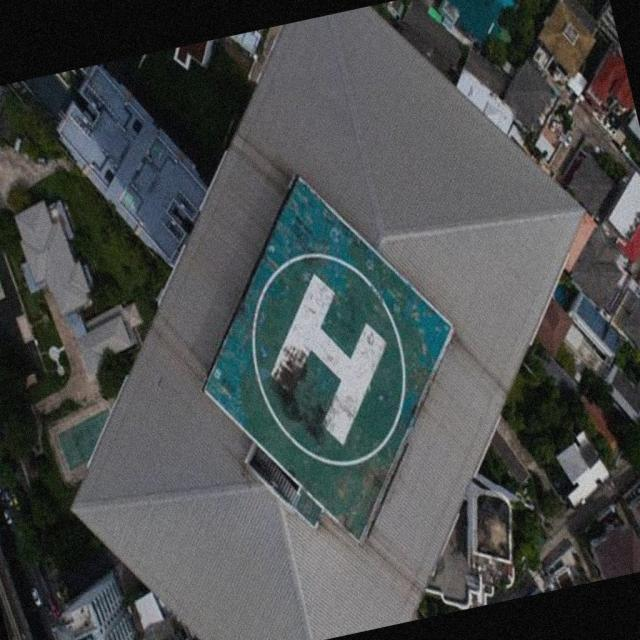helipad: (245, 249, 409, 468)
